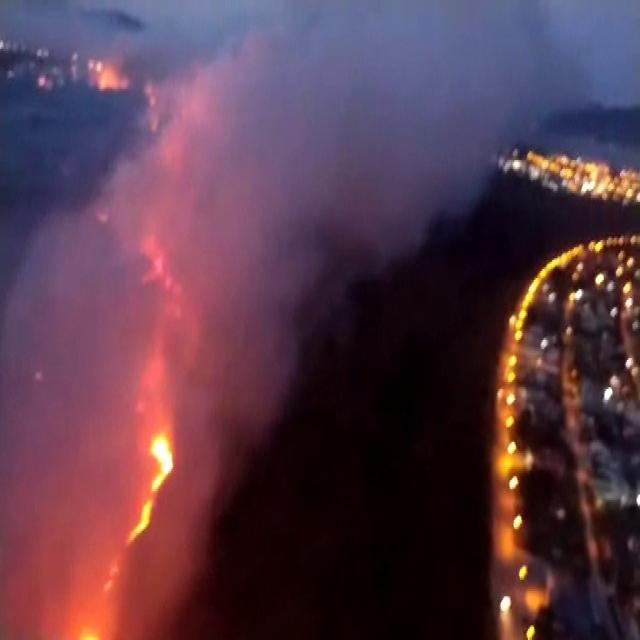Fire: (131, 429, 177, 538)
Smoke: (5, 101, 288, 456), (252, 10, 605, 238), (95, 58, 130, 93)
